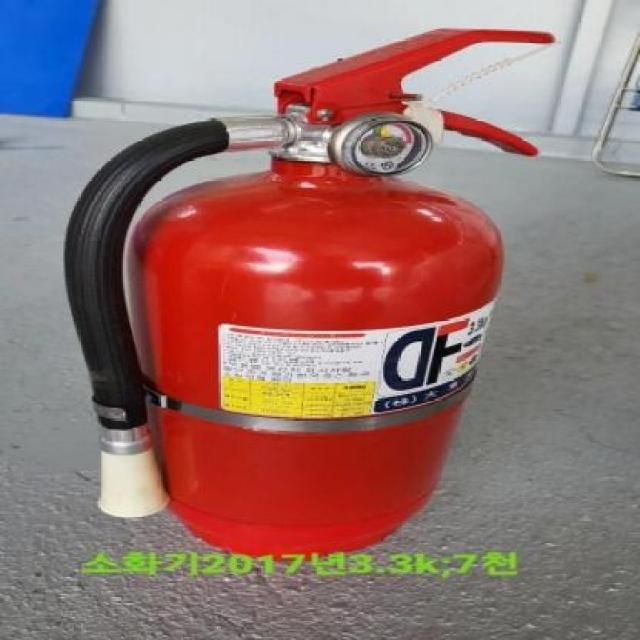fire extinguisher: (61, 28, 557, 559)
